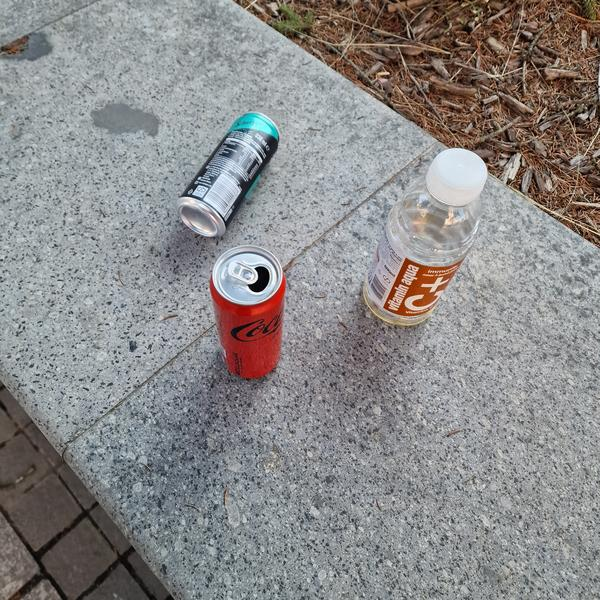can: (166, 99, 292, 247), (208, 243, 286, 382)
plastic_bottle: (340, 131, 514, 344)
